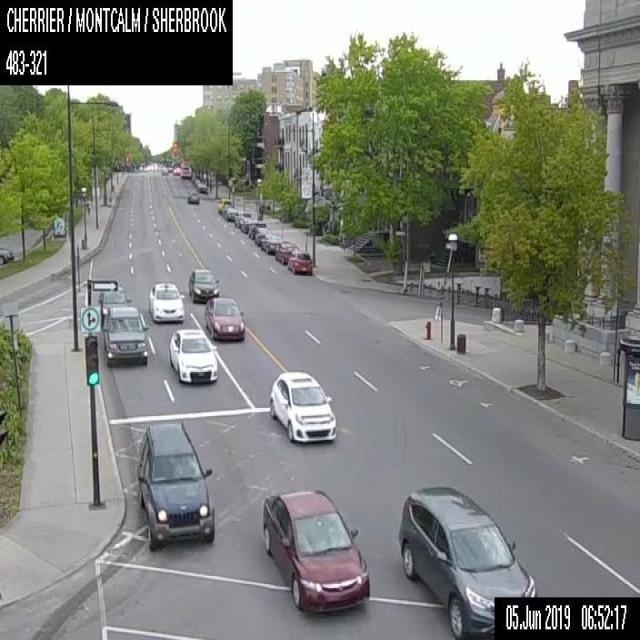bus: (180, 163, 190, 177)
vehicle: (396, 484, 538, 639), (262, 488, 370, 612), (135, 420, 215, 548), (269, 369, 336, 442), (168, 328, 216, 384), (103, 306, 148, 364), (204, 296, 244, 340), (149, 282, 184, 322), (97, 285, 130, 323), (187, 268, 219, 302), (287, 250, 312, 274), (274, 240, 297, 263), (260, 234, 281, 254), (247, 221, 265, 238), (254, 227, 270, 244), (0, 245, 14, 264), (233, 211, 250, 226), (239, 217, 253, 232), (217, 198, 230, 214), (224, 207, 238, 220), (188, 190, 198, 202), (197, 182, 206, 192), (161, 167, 168, 174), (173, 167, 179, 174)
